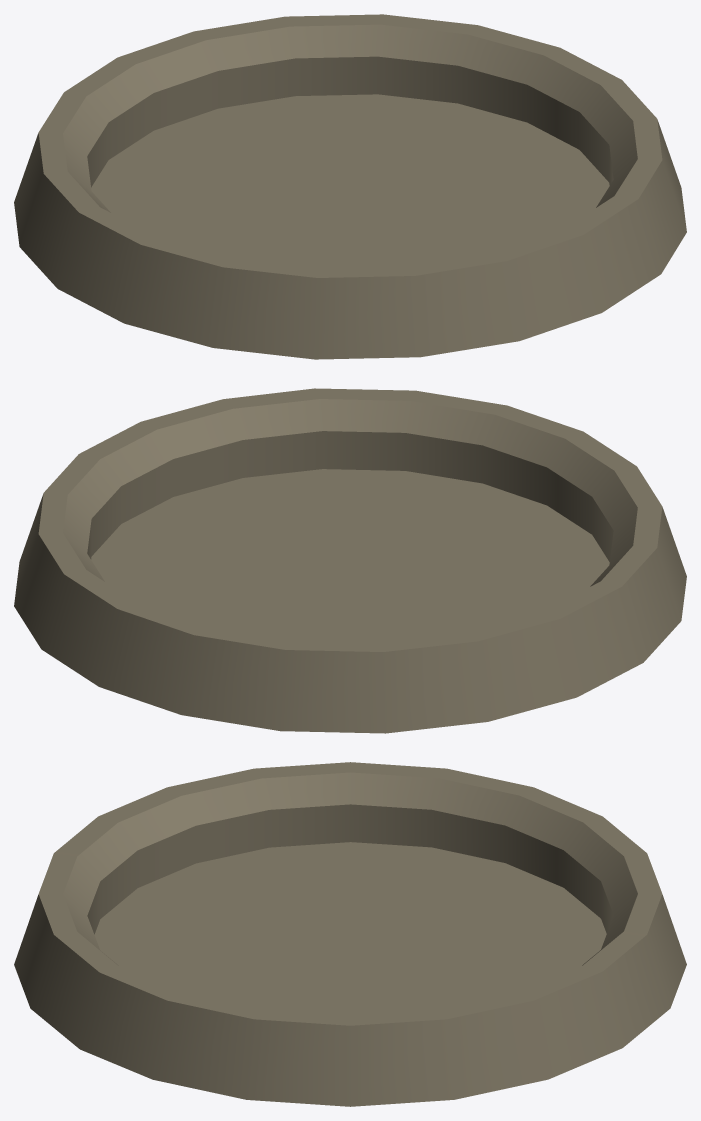
File: PondRocks.fbx
3 renders of one model, top to bottom at view 1: azimuth 30°, elevation 25°; view 2: azimuth 150°, elevation 25°; view 3: azimuth 270°, elevation 25°, orthographic.
Parts seen in each view (by area): view 1: PondRocks; view 2: PondRocks; view 3: PondRocks.
Boxes of the visible parts, x1=… form: PondRocks: x1=14, y1=14, x2=686, y2=359; PondRocks: x1=14, y1=388, x2=686, y2=733; PondRocks: x1=14, y1=762, x2=686, y2=1106.
Bounding box in the file's own units: 4.32 × 0.5015 × 4.32.
